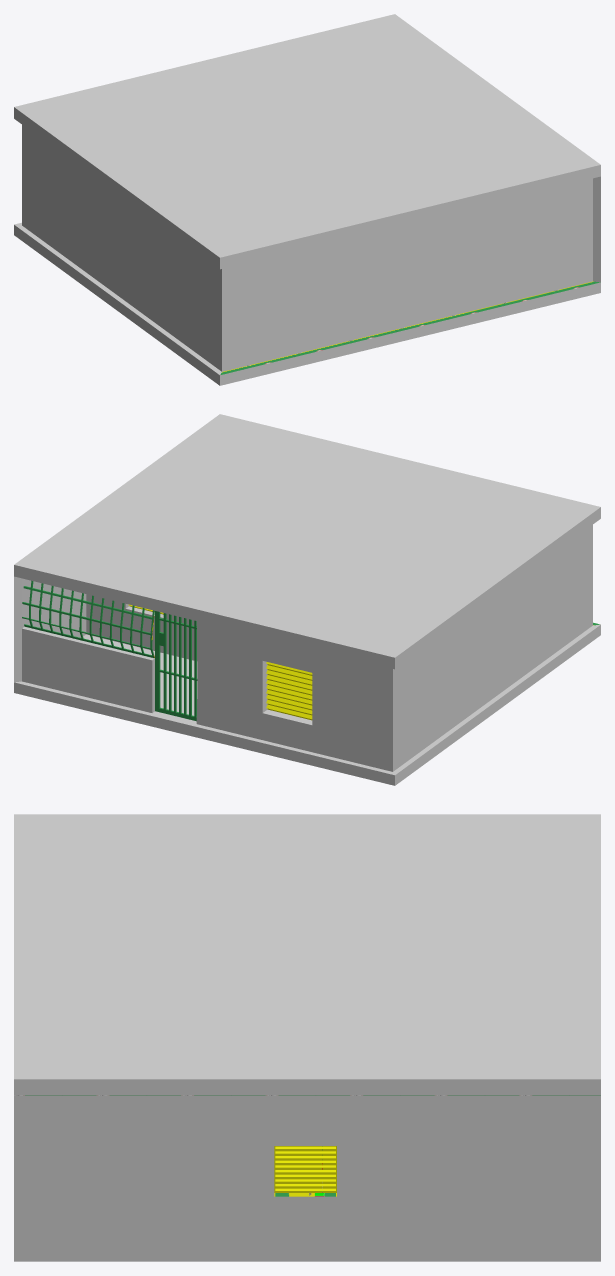
Rendered from casacomun2NORMAL.fbx.
3 renders of one model, top to bottom at view 1: azimuth 30°, elevation 25°; view 2: azimuth 150°, elevation 25°; view 3: azimuth 270°, elevation 25°, orthographic. The views are drawn at different scales.
Visible parts, largest first — view 1: building_001; view 2: building_001, Cube; view 3: building_001.
Part boxes in pixels (left/top/right/bottom): building_001: left=14, top=14, right=600, bottom=385; building_001: left=14, top=414, right=600, bottom=785; Cube: left=155, top=611, right=197, bottom=721; building_001: left=14, top=814, right=600, bottom=1261.
Bounding box in the file's own units: 753 × 242 × 705.
